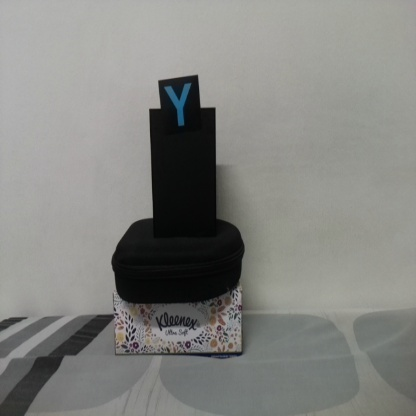id_14: (159, 78, 200, 136)
